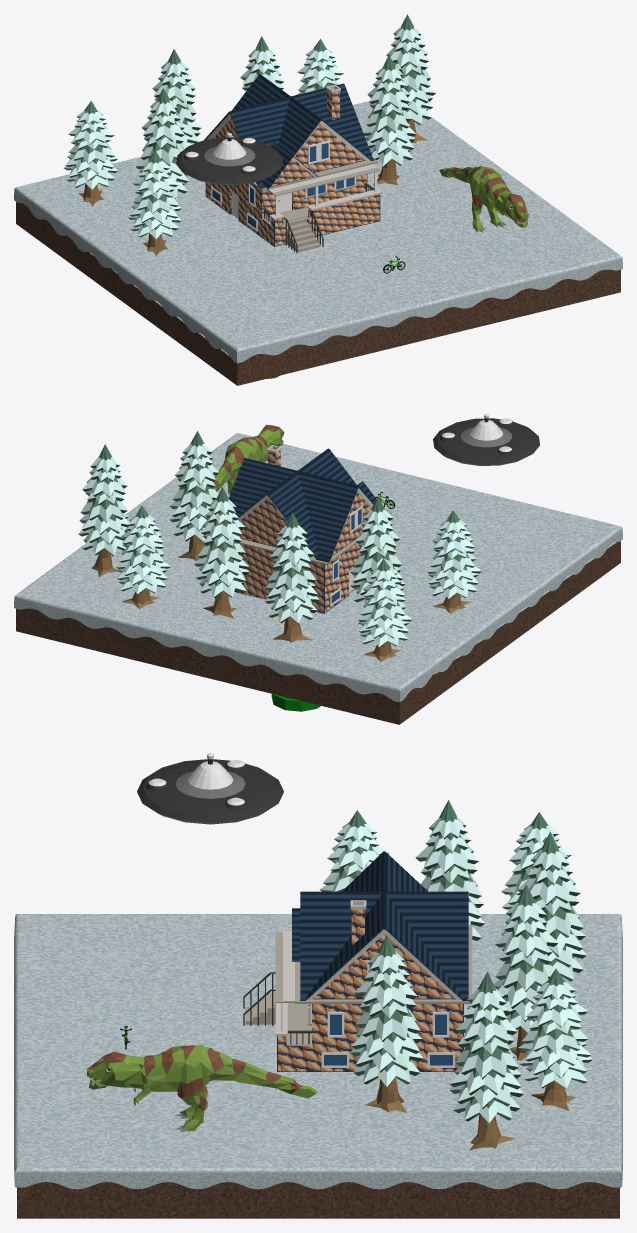
3 views of the same model, one above another, from view 1: azimuth 30°, elevation 25°; view 2: azimuth 150°, elevation 25°; view 3: azimuth 270°, elevation 25° (orthographic). The views are drawn at different scales.
Visible parts, largest first — view 1: Cube.003, Cube.430, OBJRANDOM_UFO, ANIMAL_TREX; view 2: Cube.003, Cube.430, OBJRANDOM_UFO, ANIMAL_TREX, UNDERGROUND_PIPES; view 3: Cube.003, Cube.430, ANIMAL_TREX, OBJRANDOM_UFO.
Boxes of the visible parts, x1,y1,x2,y2 form: Cube.003: [14, 14, 622, 385]; Cube.430: [197, 74, 382, 253]; OBJRANDOM_UFO: [176, 133, 283, 184]; ANIMAL_TREX: [439, 165, 528, 232]; Cube.003: [14, 431, 622, 724]; Cube.430: [229, 445, 395, 613]; OBJRANDOM_UFO: [433, 414, 539, 465]; ANIMAL_TREX: [213, 424, 284, 494]; UNDERGROUND_PIPES: [271, 694, 320, 711]; Cube.003: [14, 800, 622, 1218]; Cube.430: [243, 851, 472, 1071]; ANIMAL_TREX: [87, 1045, 317, 1132]; OBJRANDOM_UFO: [137, 753, 283, 824].
Bounding box in the file's own units: 4040 × 2507 × 4040.
32 materials, 4 textured.
